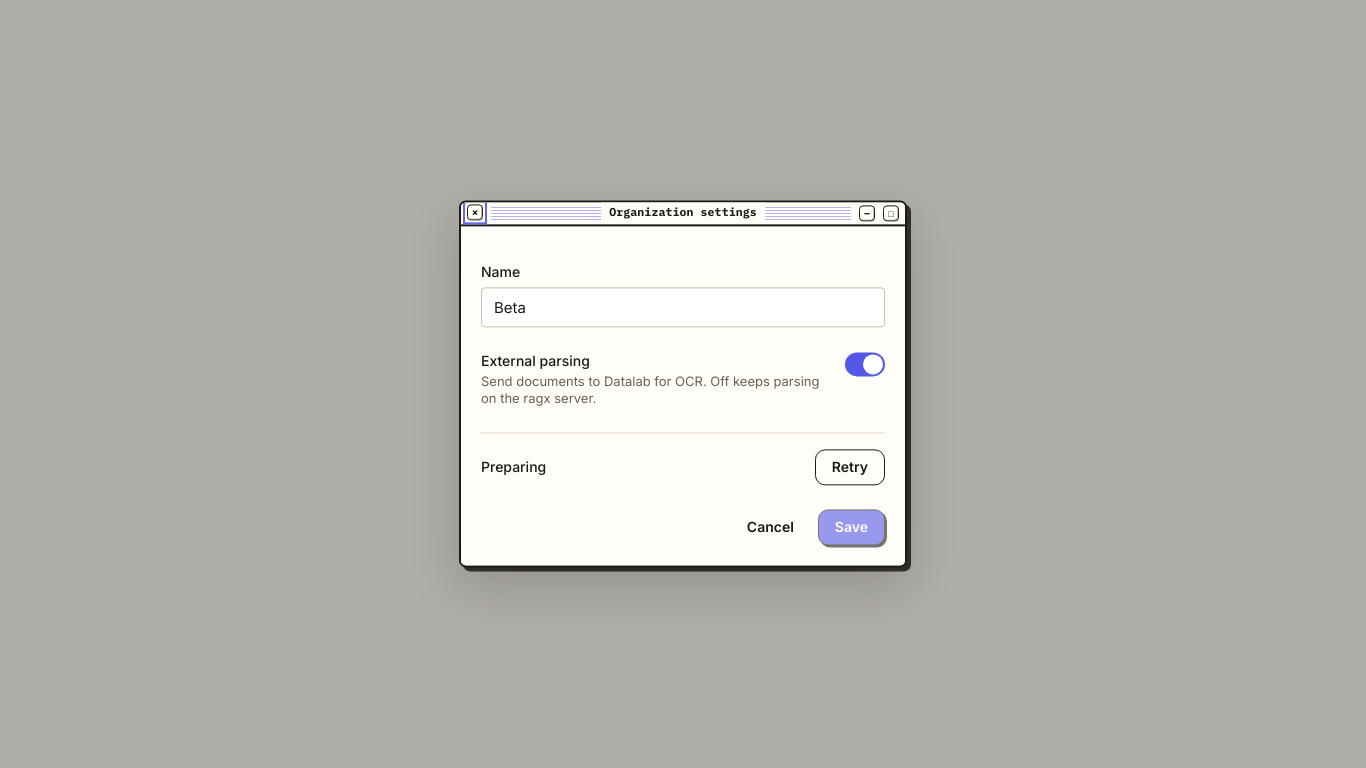
it: OrgDialog settings › announces the retried state in a status region and keeps focus on it
Expected: the message reads "Preparing", [481,459,546,476]
Step 1. Click the button "Retry" → [850, 468], box [815,450,885,486]
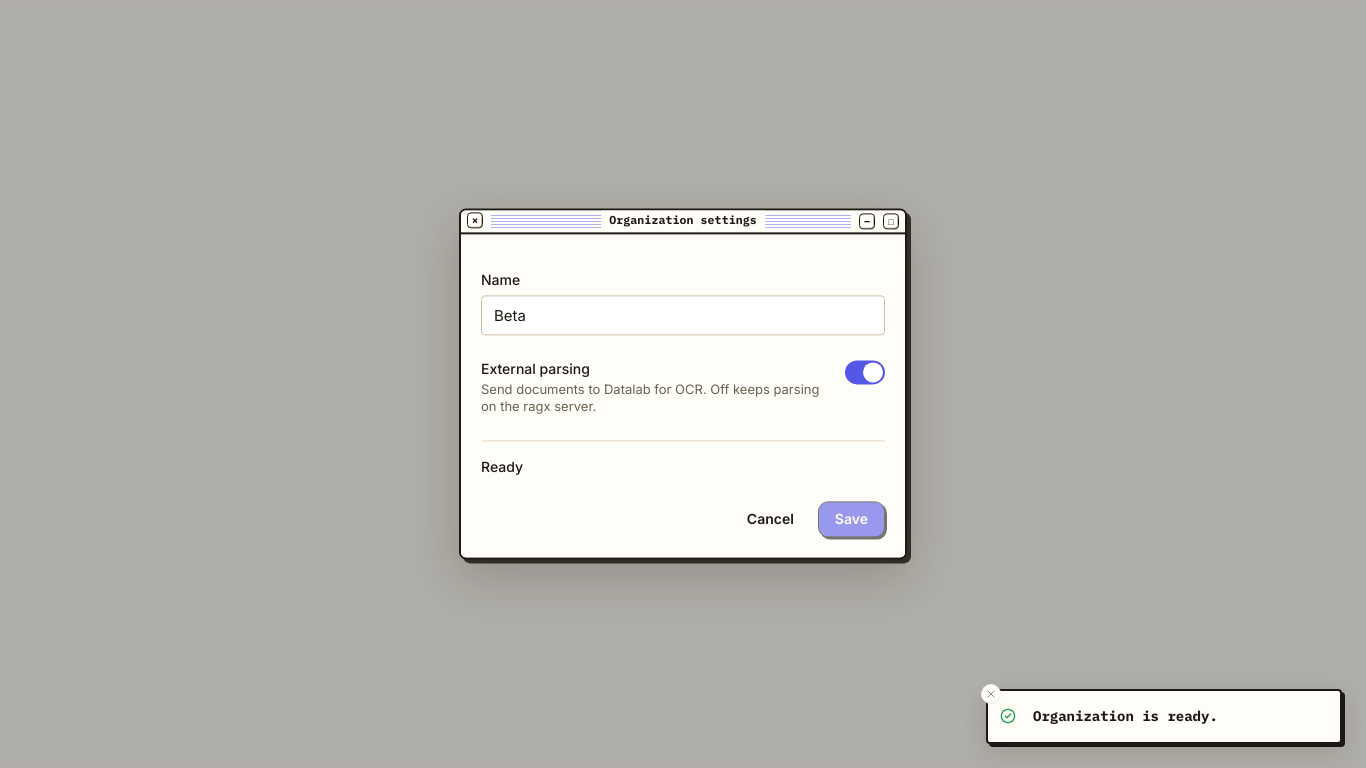
Expected: the message reads "Ready", [481,459,523,476]
Expected: the button "Retry" is gone
